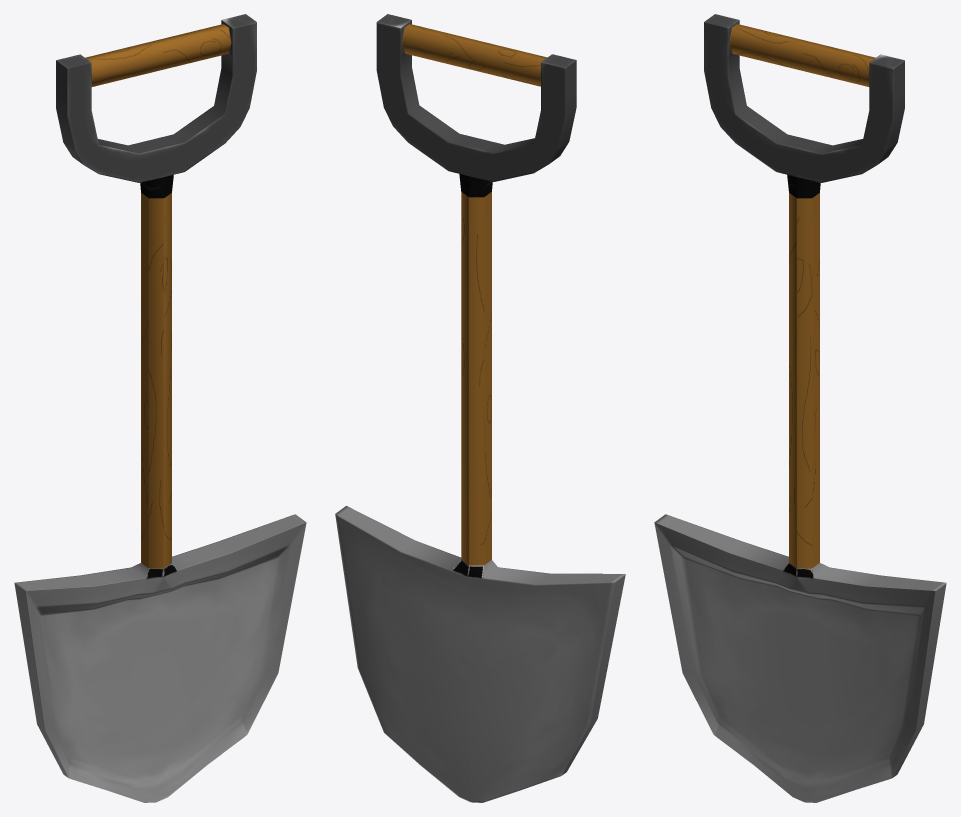
The model's file is Shovel_Model.dae.
The picture shows the model from 3 angles, left to right: view 1: azimuth 30°, elevation 25°; view 2: azimuth 150°, elevation 25°; view 3: azimuth 330°, elevation 25°; orthographic projection.
Visible parts, largest first — view 1: Cube; view 2: Cube; view 3: Cube.
Boxes of the visible parts, x1,y1,x2,y2 form: Cube: (14, 14, 306, 802); Cube: (335, 14, 625, 802); Cube: (654, 14, 946, 802).
Size of the model in its own units: 1.78 by 0.2083 by 4.6.
1 material, 1 textured.
